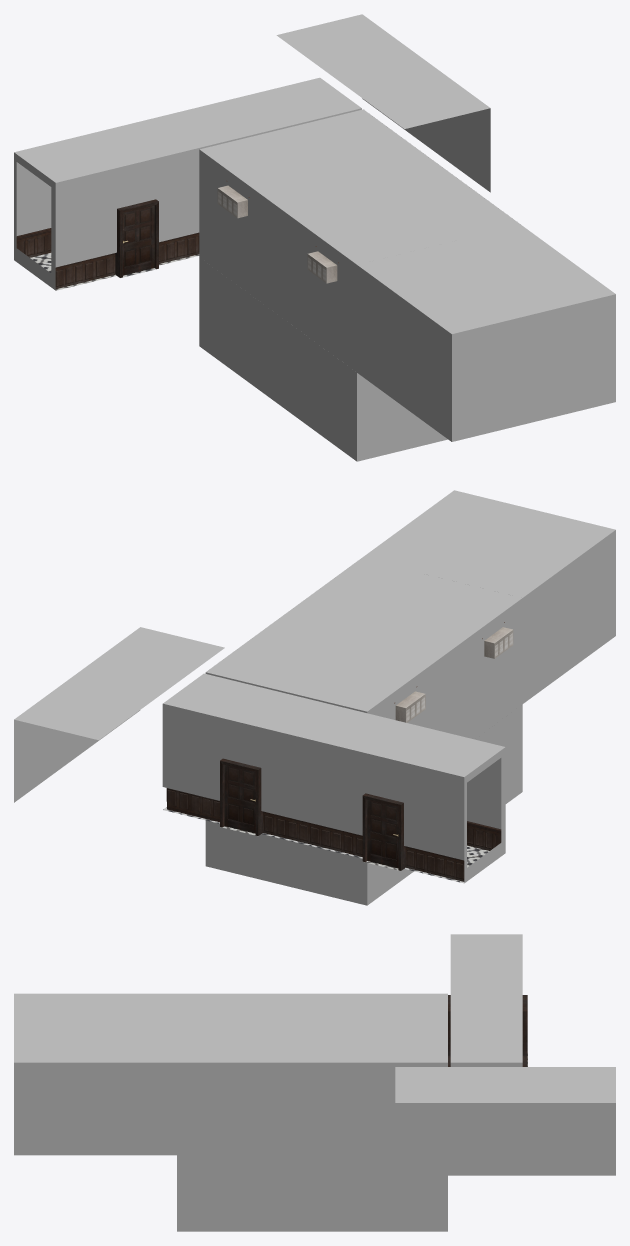
The model's file is ExportLibrary_01.FBX.
3 renders of one model, top to bottom at view 1: azimuth 30°, elevation 25°; view 2: azimuth 150°, elevation 25°; view 3: azimuth 270°, elevation 25°, orthographic. The views are drawn at different scales.
Parts seen in each view (by area): view 1: lib_monster_room, lib_rooms_002, lib_room_001, lib_rooms_basement, lib_rooms_003, lib_Door_005, lib_room_down_001, lib_room_down_002; view 2: lib_room_001, lib_rooms_002, lib_monster_room, lib_rooms_003, lib_rooms_basement, lib_Door_004, lib_Door_003, lib_room_down_002, lib_room_down_001, lib_room_down_003; view 3: lib_rooms_002, lib_monster_room, lib_rooms_003, lib_rooms_basement, lib_room_001.
Part boxes in pixels (x1,y1,x2,y2): lib_monster_room: (357,225,615,441); lib_rooms_002: (199,109,520,372); lib_room_001: (14,77,361,290); lib_rooms_basement: (199,257,447,461); lib_rooms_003: (276,14,490,192); lib_Door_005: (115,199,158,277); lib_room_down_001: (16,228,115,288); lib_room_down_002: (159,232,199,263); lib_room_001: (162,673,505,883); lib_rooms_002: (205,558,522,739); lib_monster_room: (361,490,615,703); lib_rooms_003: (14,627,224,802); lib_rooms_basement: (205,704,522,905); lib_Door_004: (362,793,405,870); lib_Door_003: (220,758,262,835); lib_room_down_002: (263,811,362,856); lib_room_down_001: (405,821,501,881); lib_room_down_003: (167,788,219,822); lib_rooms_002: (177,993,447,1155); lib_monster_room: (14,993,176,1155); lib_rooms_003: (395,1067,615,1175); lib_rooms_basement: (177,1155,447,1231); lib_room_001: (450,934,527,1066).
Size of the model in its own units: 723 by 1089 by 338.
